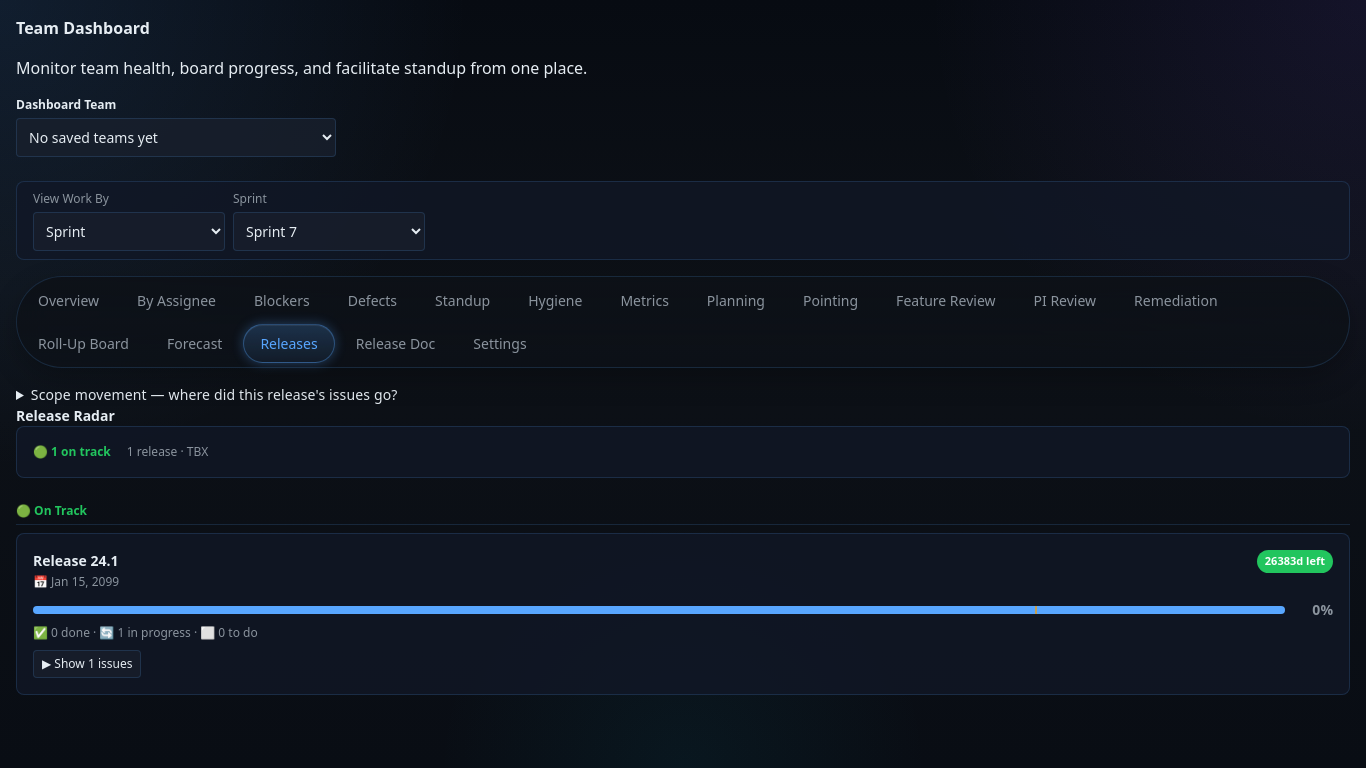
Test: SprintDashboardView › shows the FULL assignee name on expanded release issues — never a cut-off first token (GH #177 follow-up)
What coordinates should you click on to do the following:
click the button "▶ Show 1 issues"
I would click on:
 (87, 664)
Its box is [33,650,141,678].
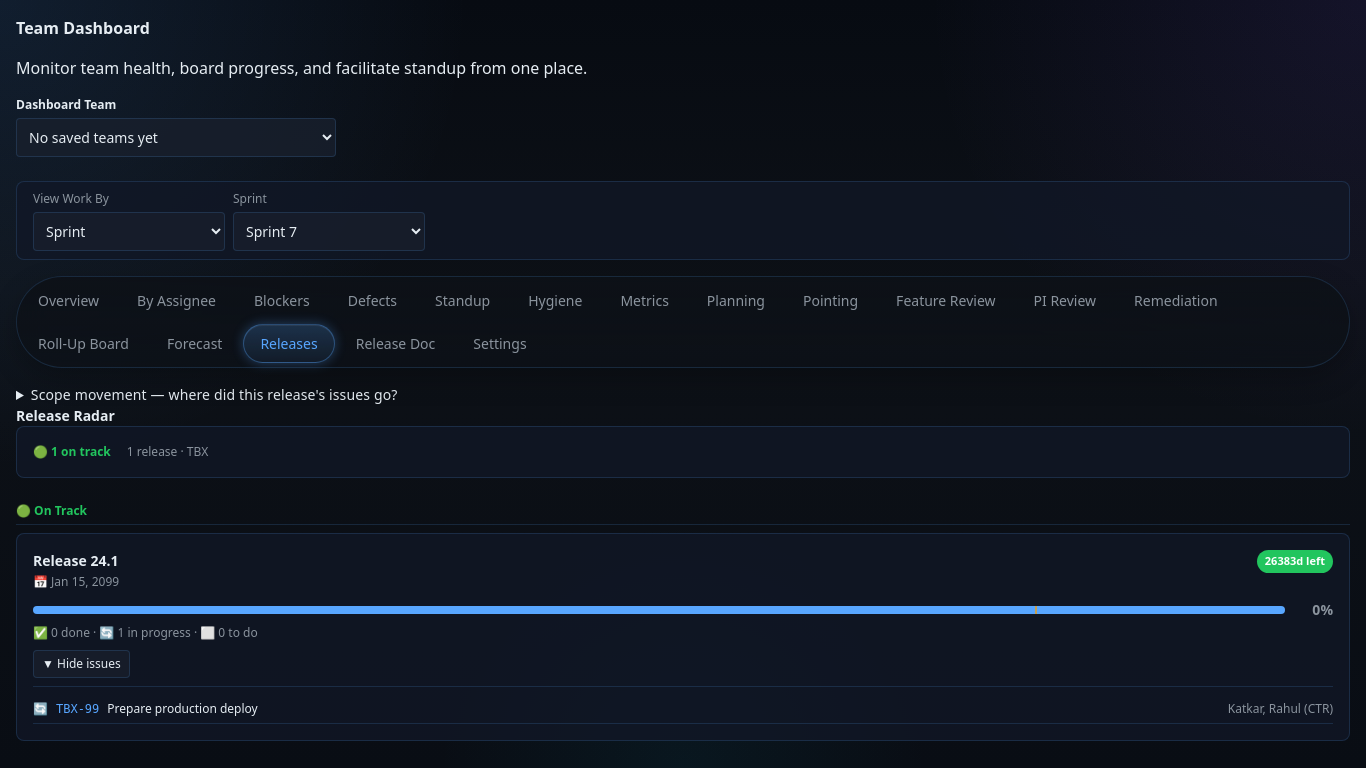
Now the text "Katkar, Rahul (CTR)" is shown, box [1228,700,1333,718]
